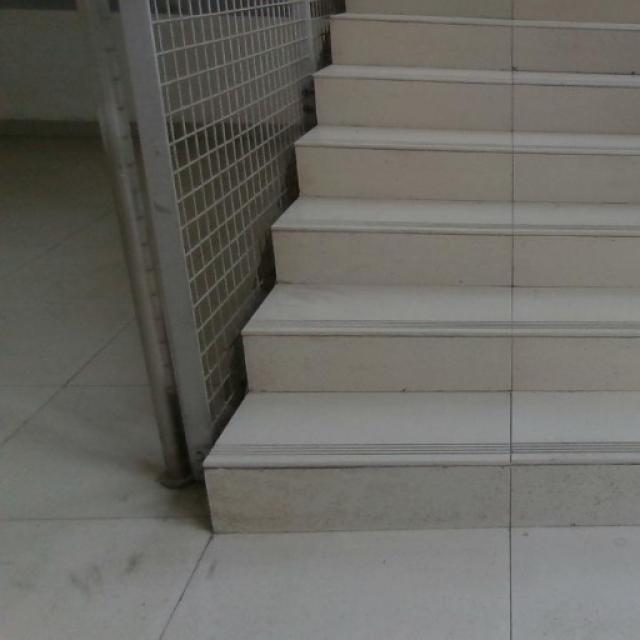stair: (214, 0, 640, 534)
